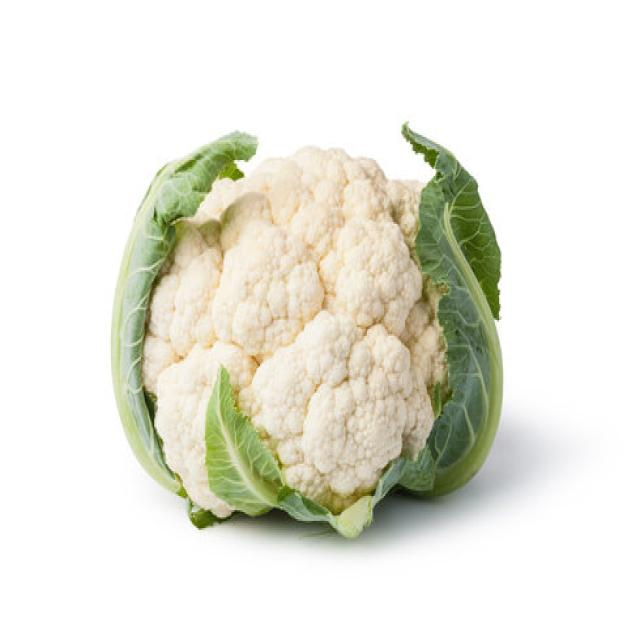Cauliflower: (140, 142, 450, 534)
